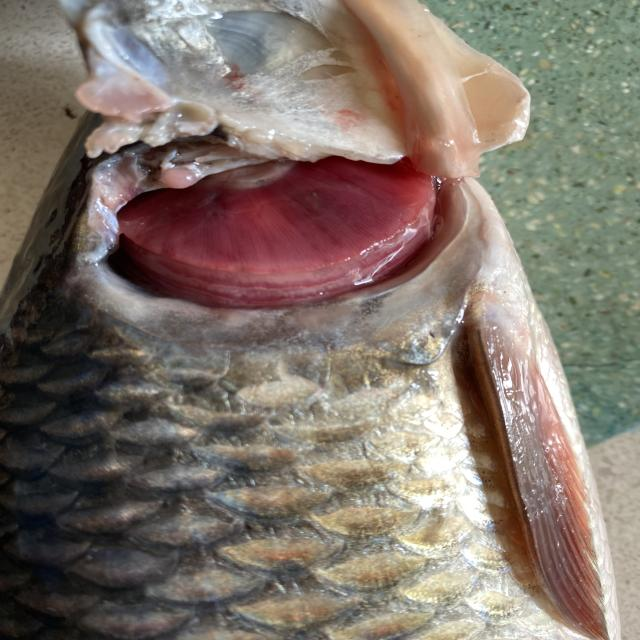Fresh: (53, 124, 494, 339)
